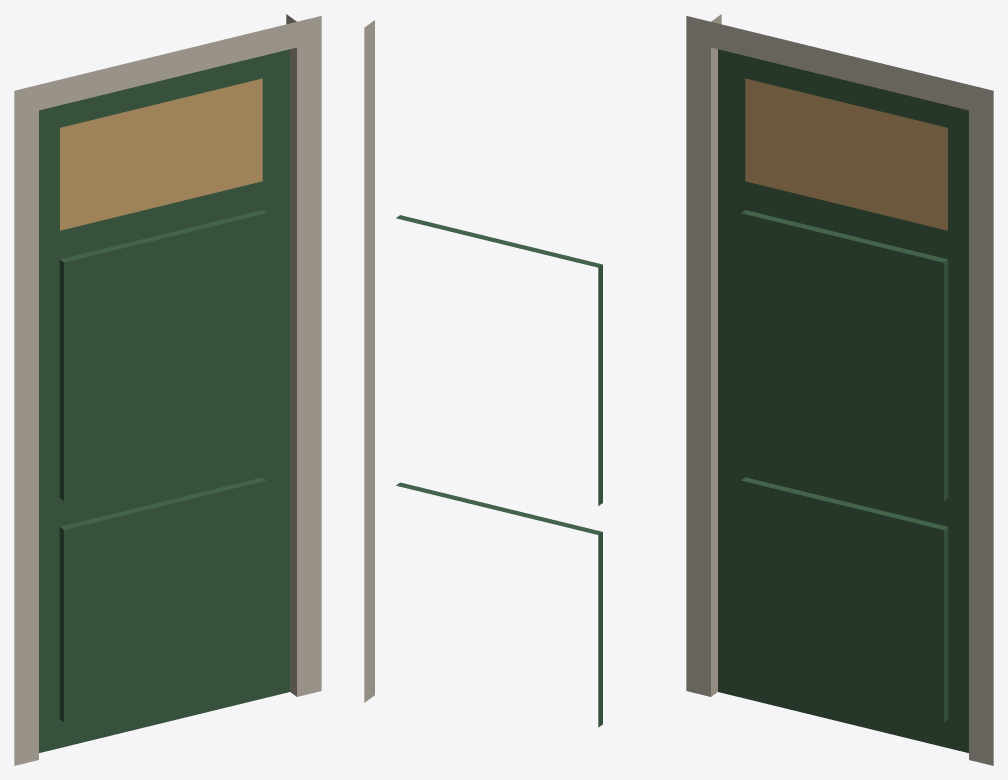
The model's file is door.glb.
3 views of the same model, side by side, from view 1: azimuth 30°, elevation 25°; view 2: azimuth 150°, elevation 25°; view 3: azimuth 330°, elevation 25° (orthographic).
Bounding box in the file's own units: 1 × 2.1 × 0.06.
